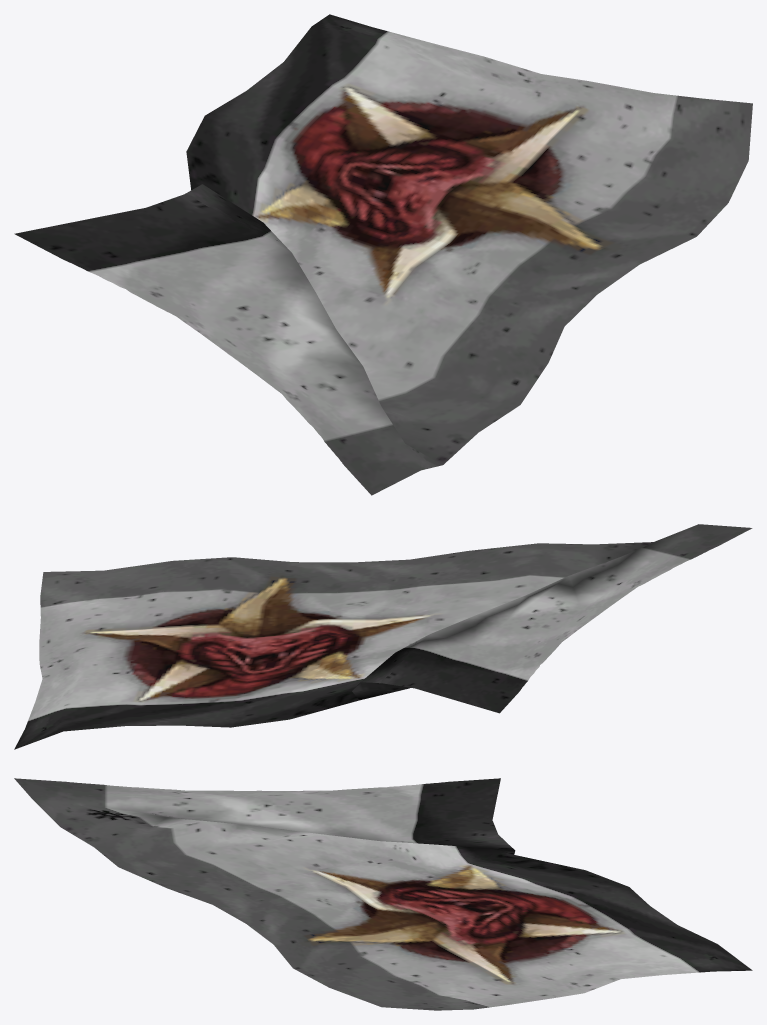
File: nt_2020_flag_spain_01_LOD0.obj
The picture shows the model from 3 angles, top to bottom: view 1: azimuth 30°, elevation 25°; view 2: azimuth 150°, elevation 25°; view 3: azimuth 270°, elevation 25°; orthographic projection. The views are drawn at different scales.
Visible parts, largest first — view 1: mtl_nt_2020_flags_01; view 2: mtl_nt_2020_flags_01; view 3: mtl_nt_2020_flags_01.
Boxes of the visible parts, x1=… form: mtl_nt_2020_flags_01: x1=14, y1=14, x2=752, y2=495; mtl_nt_2020_flags_01: x1=14, y1=524, x2=752, y2=749; mtl_nt_2020_flags_01: x1=14, y1=778, x2=752, y2=1010.
Bounding box in the file's own units: 239 × 12.6 × 325.
